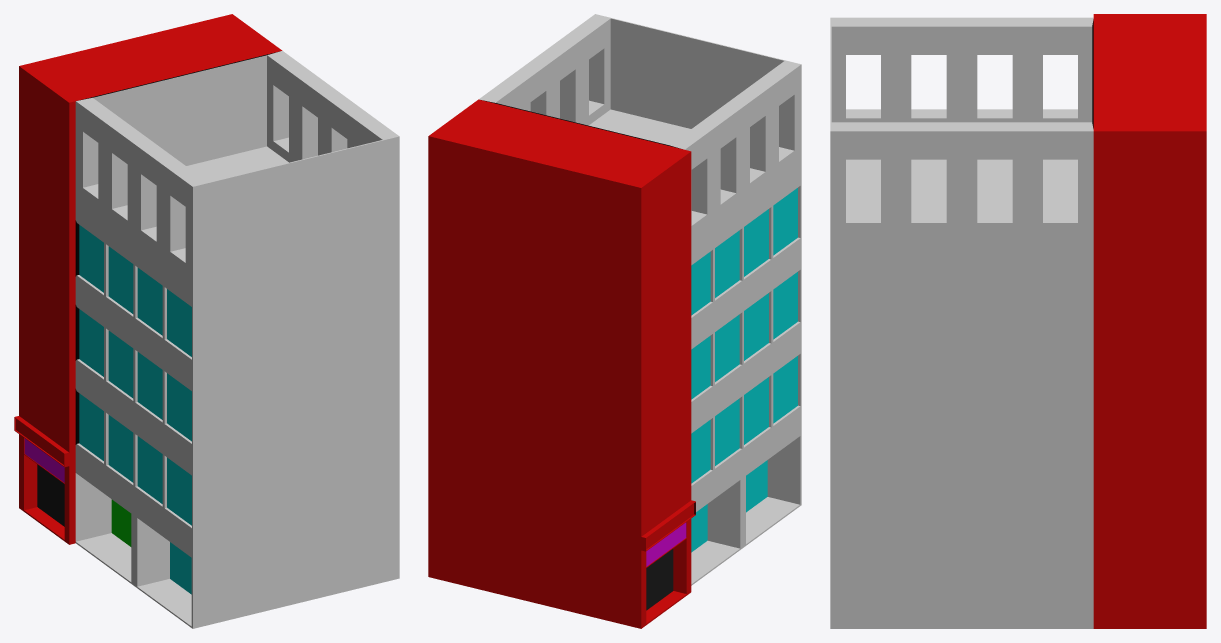
Rendered from Building_20.fbx.
The picture shows the model from 3 angles, left to right: view 1: azimuth 30°, elevation 25°; view 2: azimuth 150°, elevation 25°; view 3: azimuth 270°, elevation 25°; orthographic projection. The views are drawn at different scales.
Parts seen in each view (by area): view 1: Building_20; view 2: Building_20; view 3: Building_20.
Boxes of the visible parts, box(x1,y1,x2,y2) form: Building_20: box(14, 14, 399, 628); Building_20: box(428, 14, 801, 628); Building_20: box(830, 14, 1206, 628).
Size of the model in its own units: 171 by 331 by 227.
